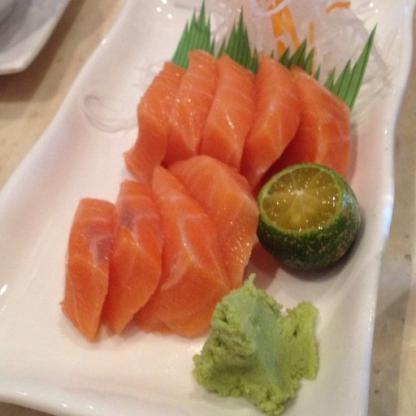salmon: (63, 160, 257, 332), (128, 54, 354, 189)
